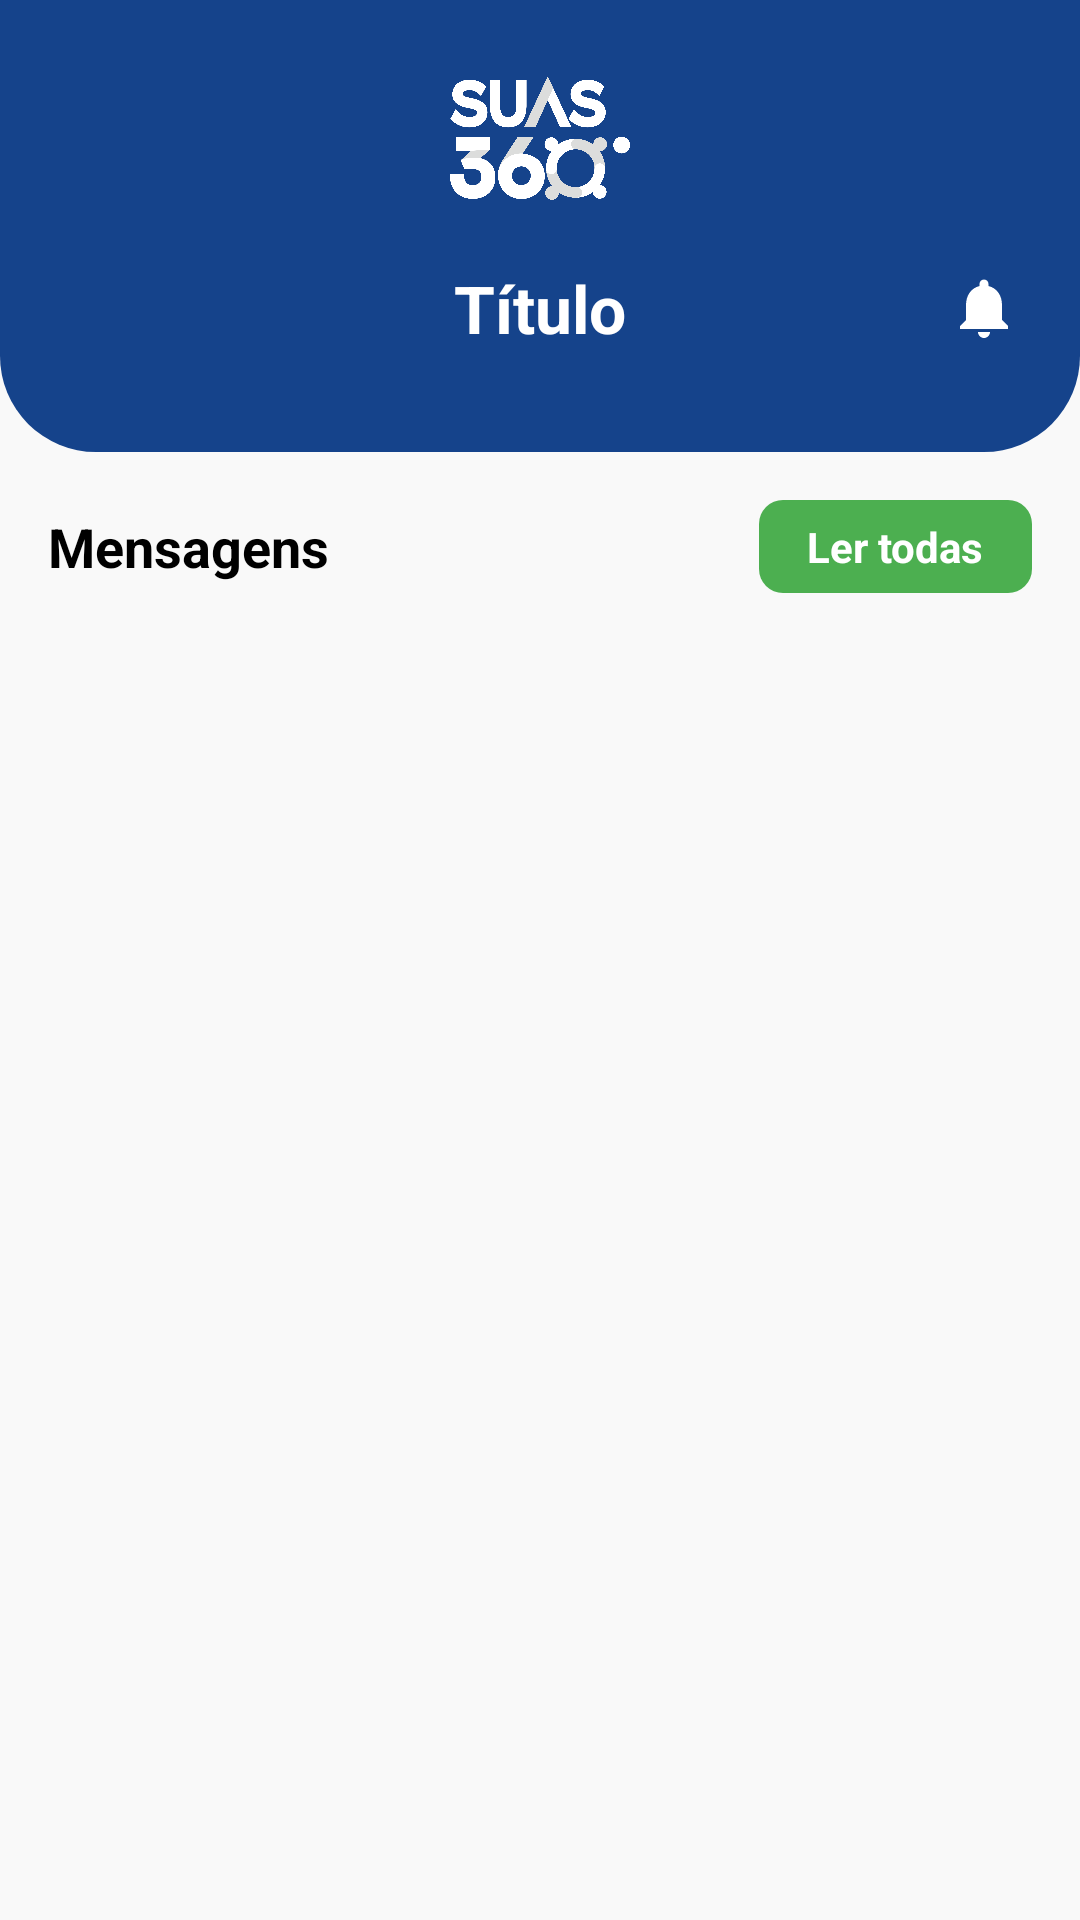

Screen size 1080*1920. Icon name, then its center in pixels as (x,y):
Notificações: (984,308)
